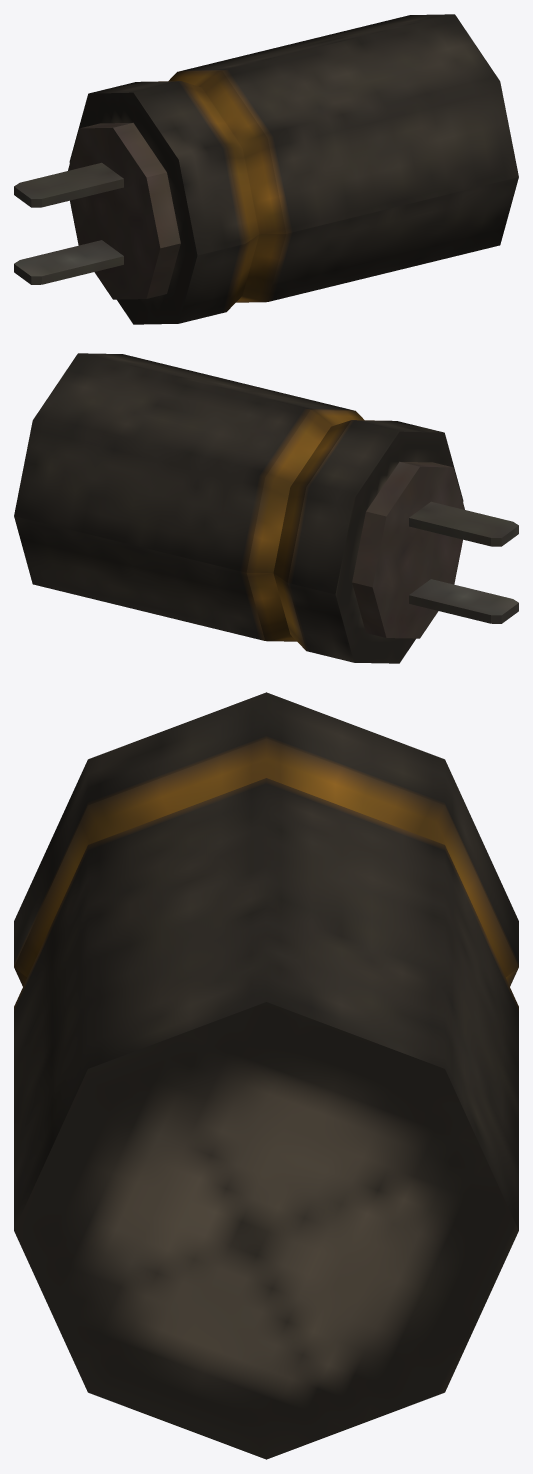
The model's file is Piston.glb.
3 views of the same model, one above another, from view 1: azimuth 30°, elevation 25°; view 2: azimuth 150°, elevation 25°; view 3: azimuth 270°, elevation 25° (orthographic). The views are drawn at different scales.
Parts seen in each view (by area): view 1: capacitor_etx_2; view 2: capacitor_etx_2; view 3: capacitor_etx_2.
Part boxes in pixels (left/top/right/bottom): capacitor_etx_2: left=14, top=14, right=518, bottom=324; capacitor_etx_2: left=14, top=353, right=518, bottom=663; capacitor_etx_2: left=14, top=692, right=518, bottom=1459.
Size of the model in its own units: 0.1264 by 0.0648 by 0.0648.
Materials: 1 (1 with a texture image).
